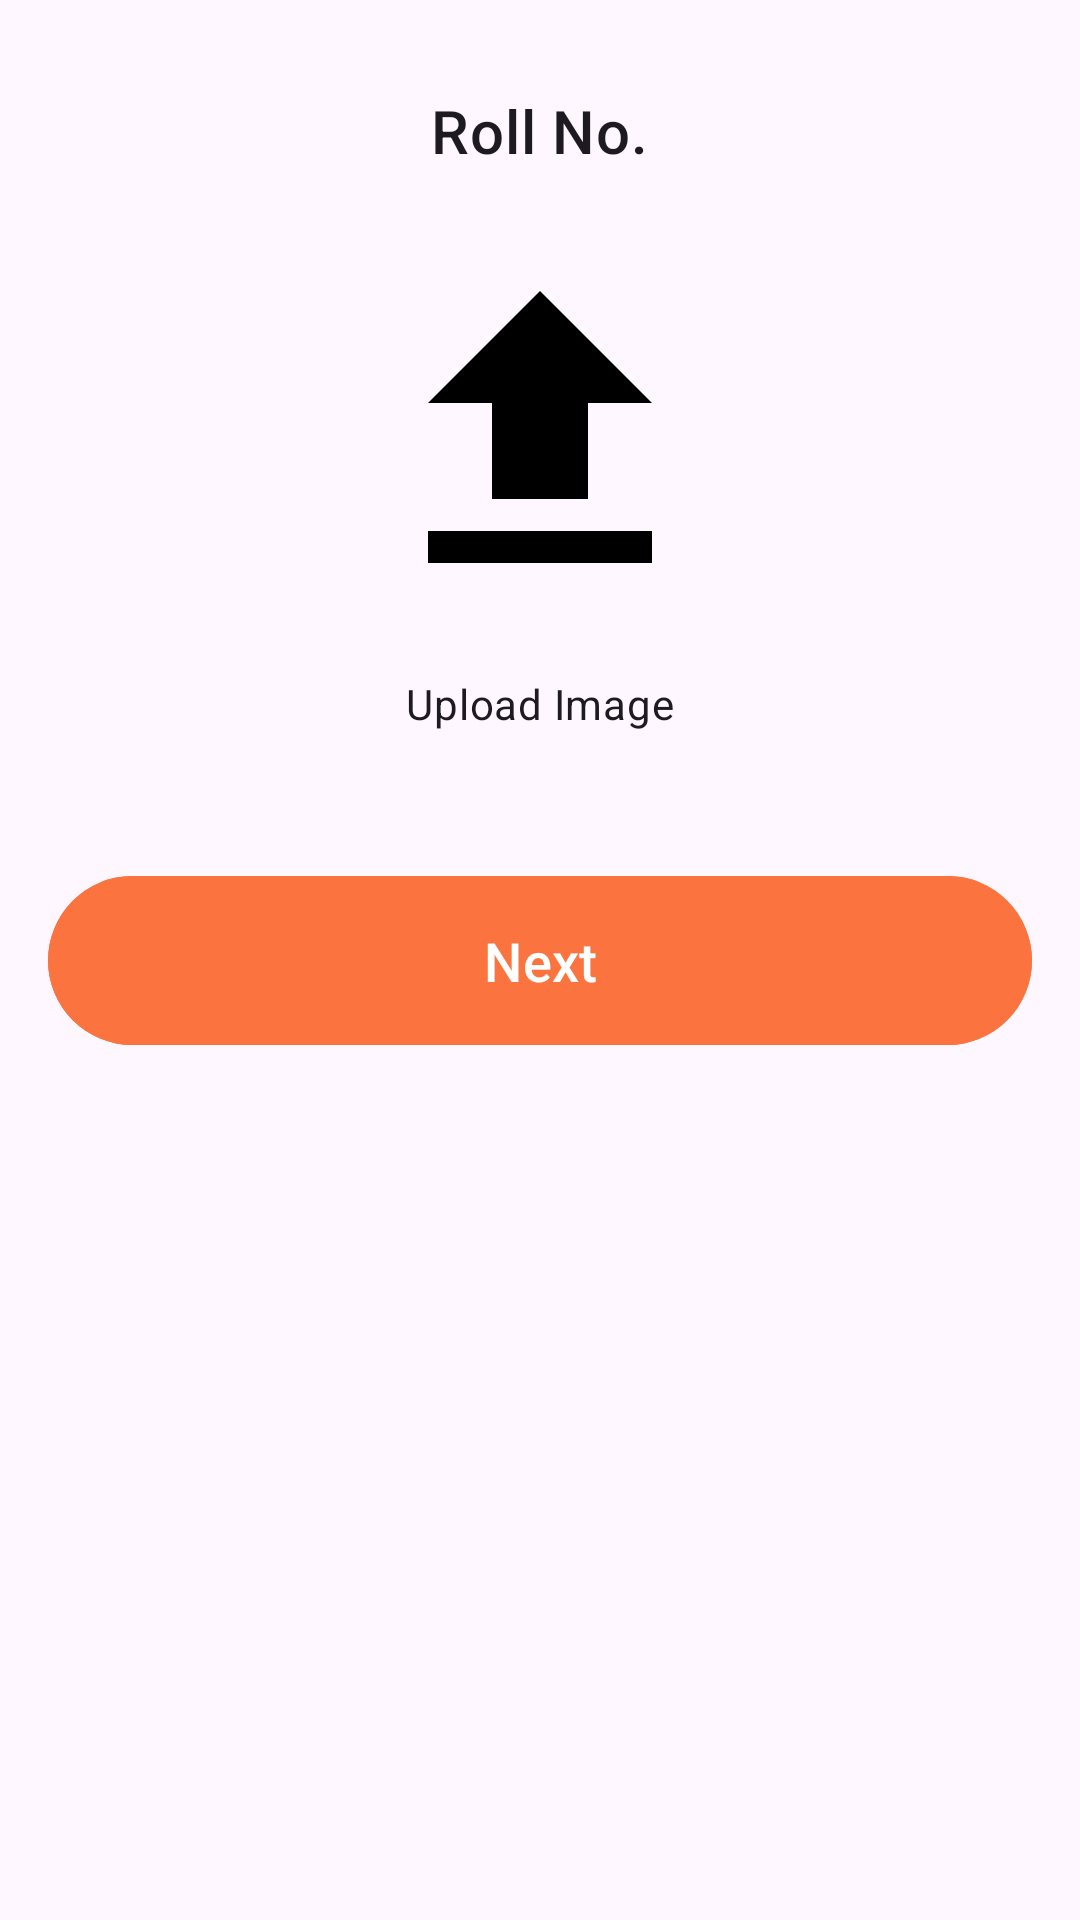

Point at icon controls on the screen. Image size 1080*1920, points as [x,y].
file upload: [540,427]
